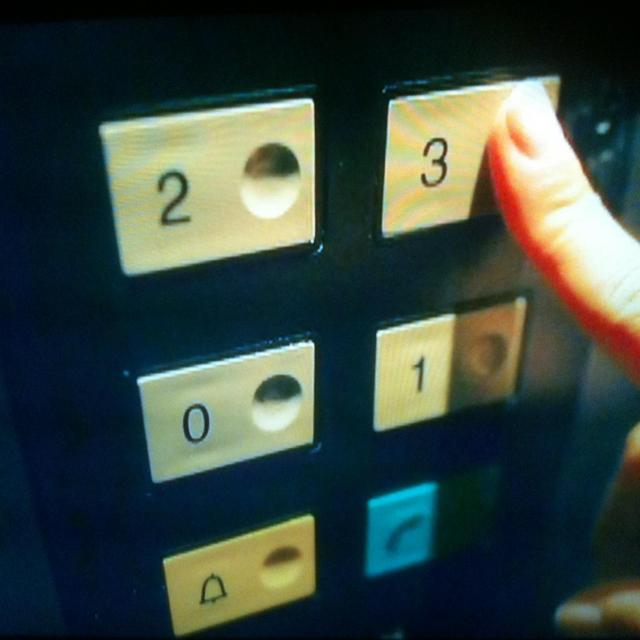0: (138, 332, 329, 490)
1: (371, 283, 537, 440)
2: (96, 86, 336, 283)
3: (377, 72, 574, 250)
alarm: (164, 502, 323, 637)
call: (366, 481, 436, 588)
